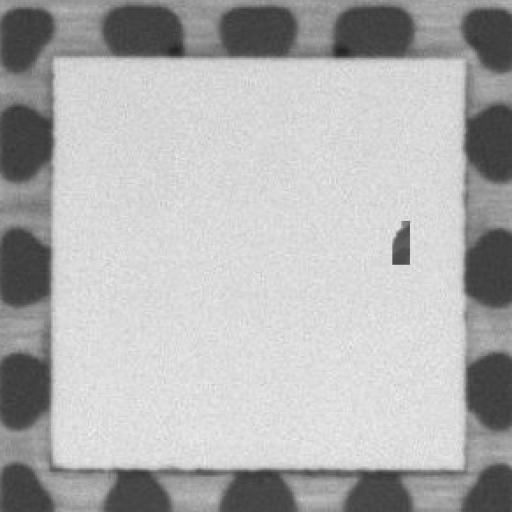DIE_INK: (389, 220, 407, 264)
